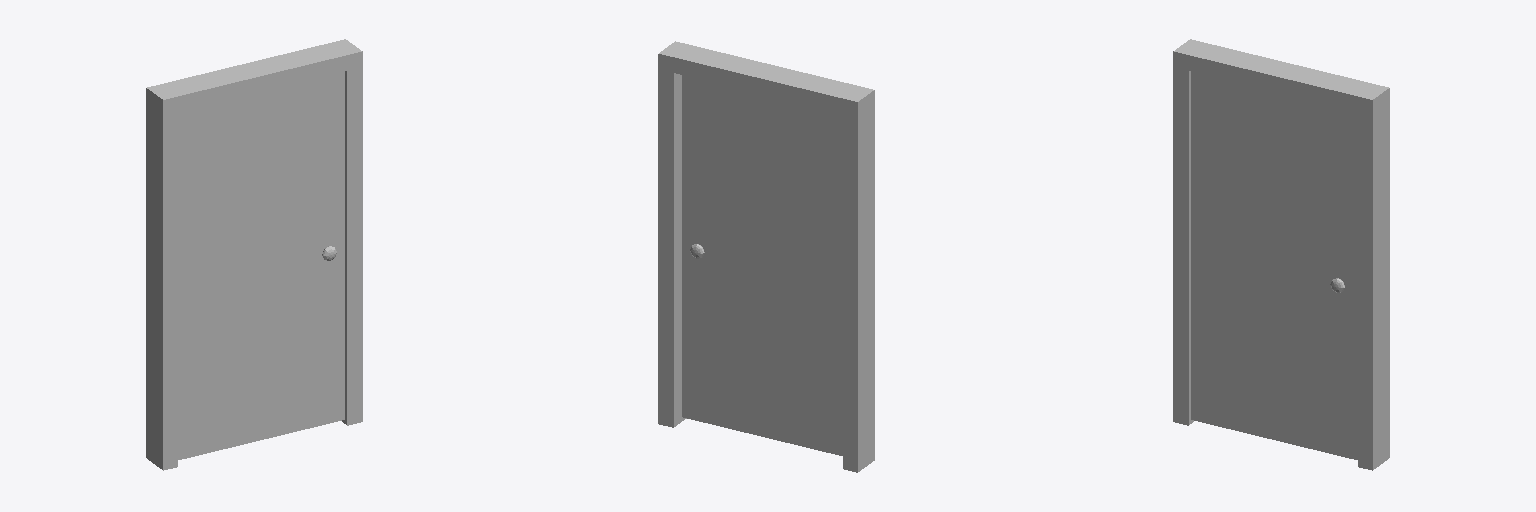
The model's file is Door.obj.
3 views of the same model, side by side, from view 1: azimuth 30°, elevation 25°; view 2: azimuth 150°, elevation 25°; view 3: azimuth 330°, elevation 25° (orthographic).
Visible parts, largest first — view 1: Door polySurface1, Door_Frame ___pCube51 polySurface1; view 2: Door polySurface1, Door_Frame ___pCube51 polySurface1; view 3: Door polySurface1, Door_Frame ___pCube51 polySurface1.
Boxes of the visible parts, <box> form: Door polySurface1: <box>178,72,344,459</box>; Door_Frame ___pCube51 polySurface1: <box>146,39,362,470</box>; Door polySurface1: <box>682,75,842,455</box>; Door_Frame ___pCube51 polySurface1: <box>658,41,874,472</box>; Door polySurface1: <box>1191,72,1357,459</box>; Door_Frame ___pCube51 polySurface1: <box>1173,39,1389,470</box>.
Size of the model in its own units: 1.18 by 2.09 by 0.2022.